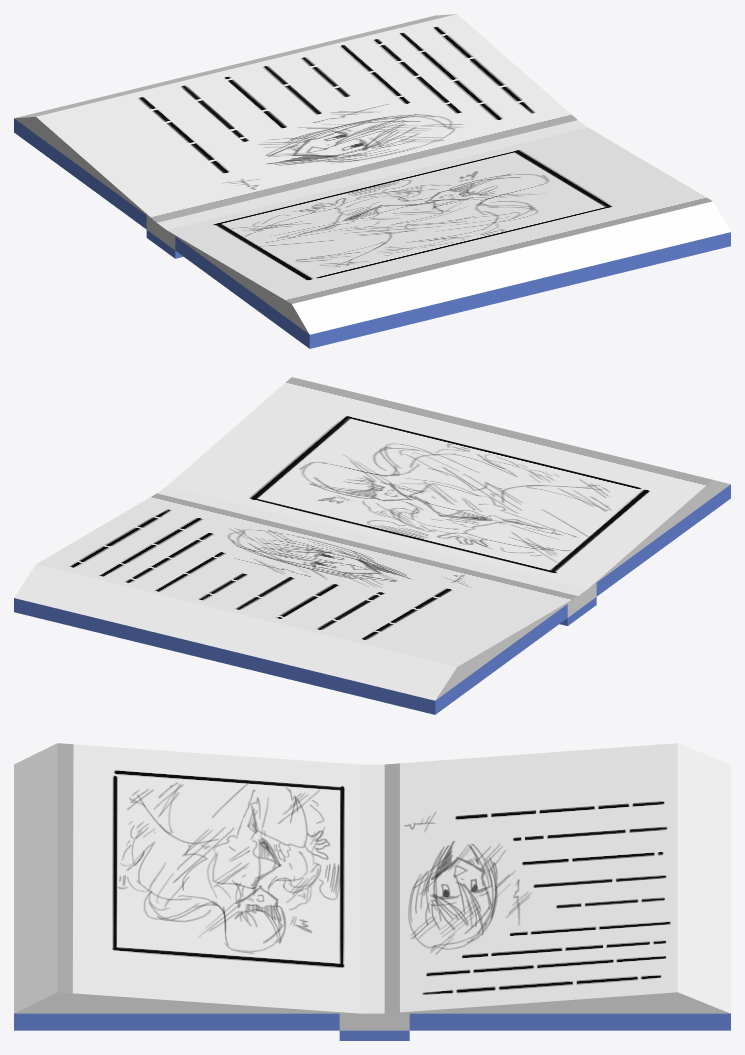
Rendered from book.fbx.
3 renders of one model, top to bottom at view 1: azimuth 30°, elevation 25°; view 2: azimuth 150°, elevation 25°; view 3: azimuth 270°, elevation 25°, orthographic. The views are drawn at different scales.
Parts seen in each view (by area): view 1: Cube; view 2: Cube; view 3: Cube.
Part boxes in pixels (x1,y1,x2,y2): Cube: (14, 14, 730, 348); Cube: (14, 377, 730, 714); Cube: (14, 743, 730, 1040).
Bounding box in the file's own units: 574 × 52.12 × 698.
